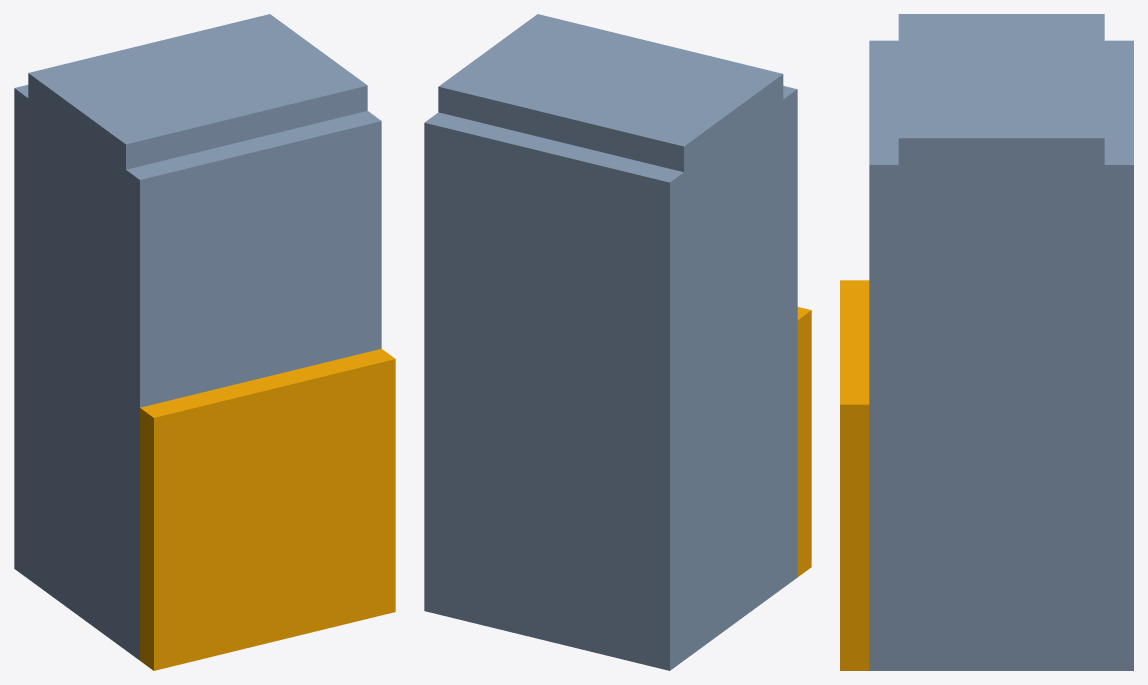
File: wall_1.obj
3 views of the same model, side by side, from view 1: azimuth 30°, elevation 25°; view 2: azimuth 150°, elevation 25°; view 3: azimuth 270°, elevation 25° (orthographic). The views are drawn at different scales.
Bounding box in the file's own units: 10 × 20 × 10.
Materials: 1 (1 with a texture image).
